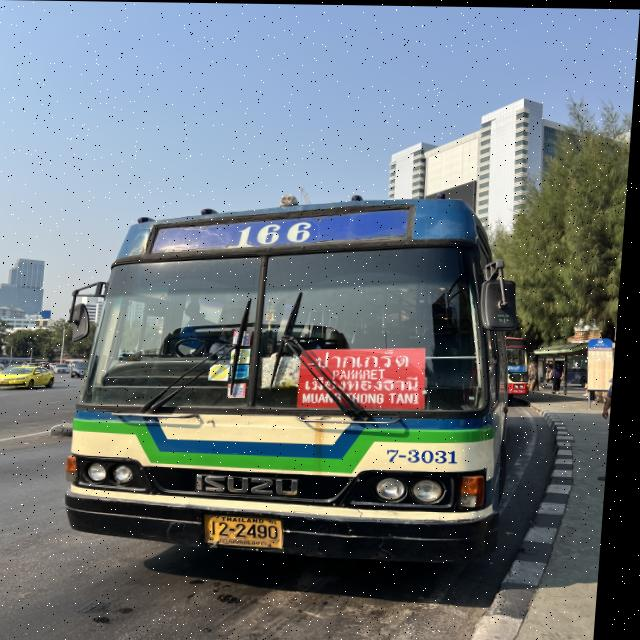BMTA-bus: (72, 196, 556, 581)
Bus Line Number: (231, 220, 322, 251)
Bus Side Number: (381, 439, 473, 471)
Destination Sign: (300, 347, 436, 408)
